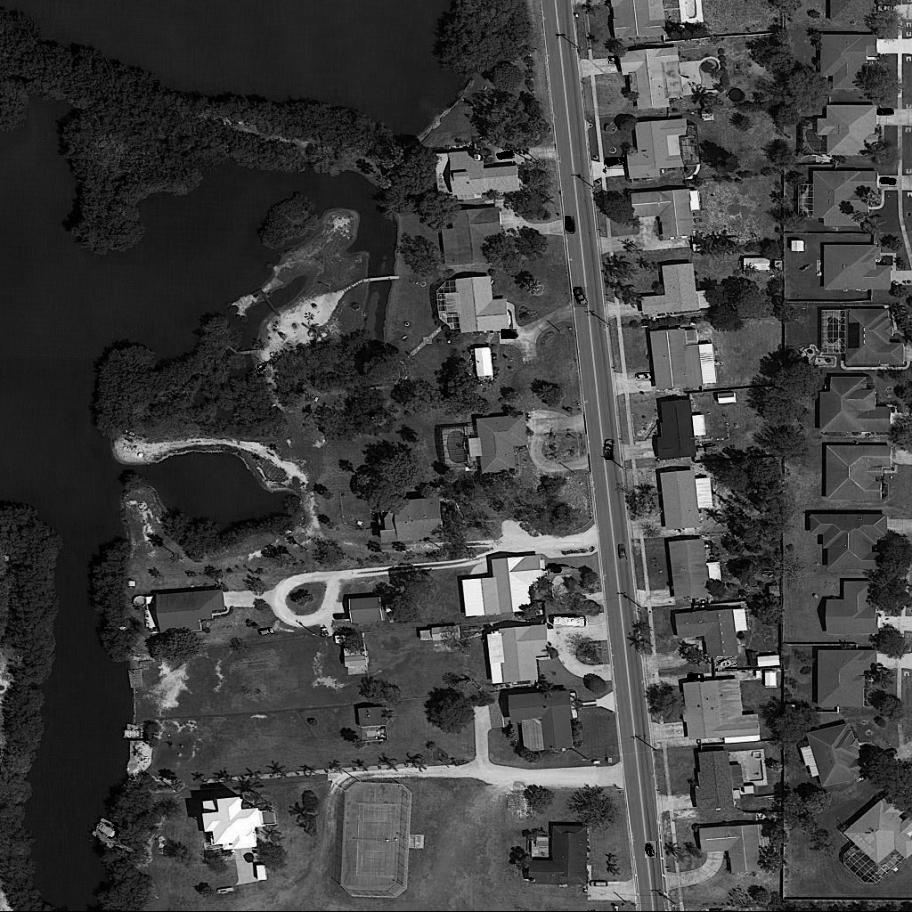large-vehicle: (553, 616, 588, 630)
ship: (97, 822, 119, 842), (547, 564, 575, 577), (717, 657, 739, 672), (256, 361, 272, 377)
small-vehicle: (573, 287, 589, 309), (605, 158, 626, 171), (497, 150, 516, 162), (646, 841, 659, 858), (880, 176, 898, 187), (501, 329, 517, 341), (618, 545, 629, 562), (636, 372, 653, 382), (566, 216, 575, 234), (687, 675, 706, 683), (605, 441, 613, 460), (260, 627, 275, 637), (608, 57, 621, 66), (878, 108, 894, 115)
